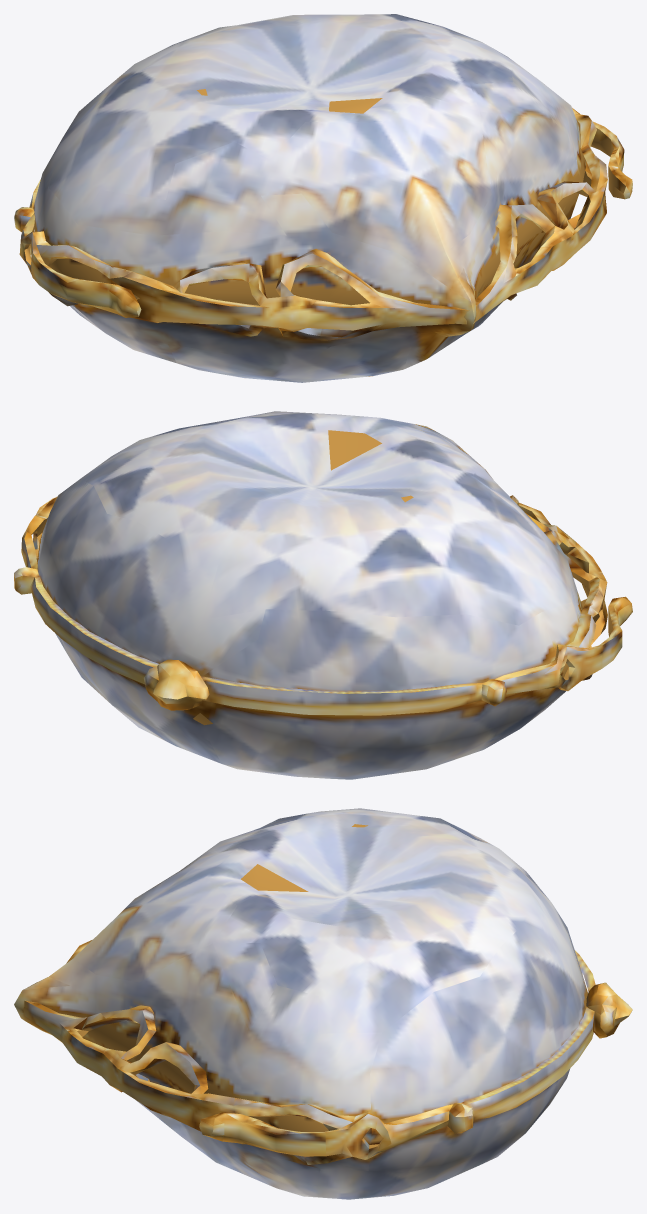
The model's file is item_maw_craft_gem20.glb.
3 renders of one model, top to bottom at view 1: azimuth 30°, elevation 25°; view 2: azimuth 150°, elevation 25°; view 3: azimuth 270°, elevation 25°, orthographic.
Parts seen in each view (by area): view 1: maw_gem20; view 2: maw_gem20; view 3: maw_gem20.
Boxes of the visible parts, x1,y1,x2,y2 form: maw_gem20: (14,14,632,382); maw_gem20: (14,411,632,779); maw_gem20: (14,808,632,1199).
Bounding box in the file's own units: 0.9987 × 0.4542 × 0.9367.
1 material, 1 textured.
